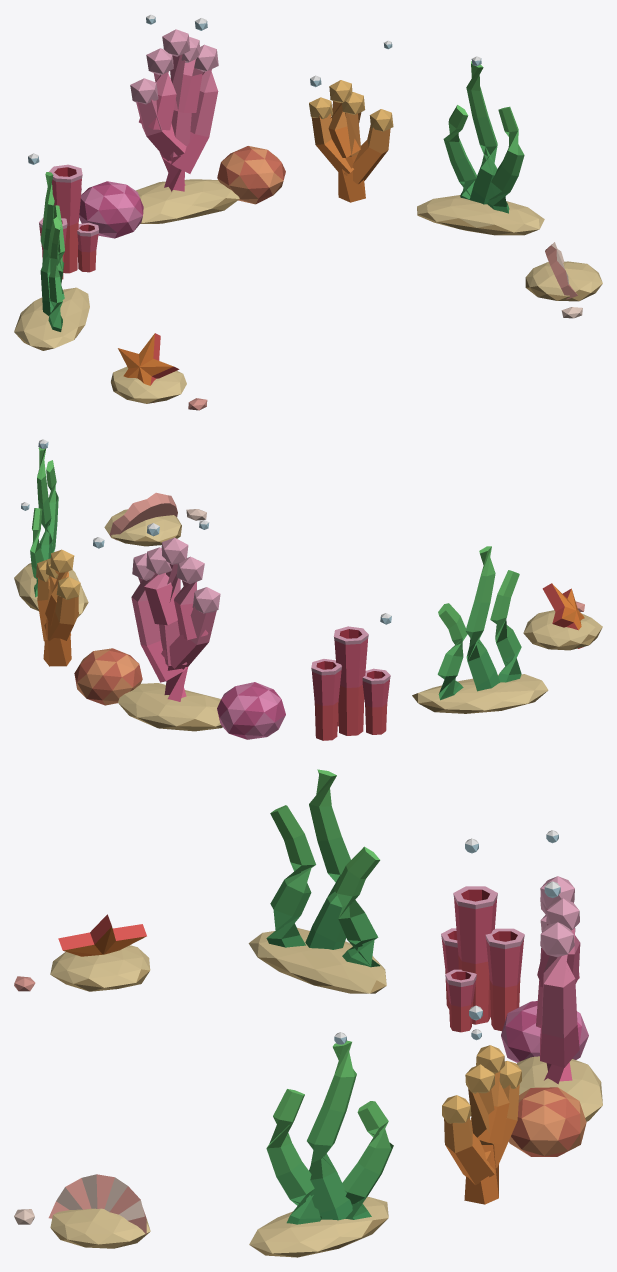
File: habitat_theme_reef.fbx
3 views of the same model, one above another, from view 1: azimuth 30°, elevation 25°; view 2: azimuth 150°, elevation 25°; view 3: azimuth 270°, elevation 25° (orthographic). The views are drawn at different scales.
Parts seen in each view (by area): view 1: habitat_theme_reef; view 2: habitat_theme_reef; view 3: habitat_theme_reef.
Boxes of the visible parts, bbox=[...] form: habitat_theme_reef: bbox=[14, 14, 602, 410]; habitat_theme_reef: bbox=[14, 439, 602, 740]; habitat_theme_reef: bbox=[14, 769, 602, 1257].
Bounding box in the file's own units: 7.28 × 2.75 × 5.65.
